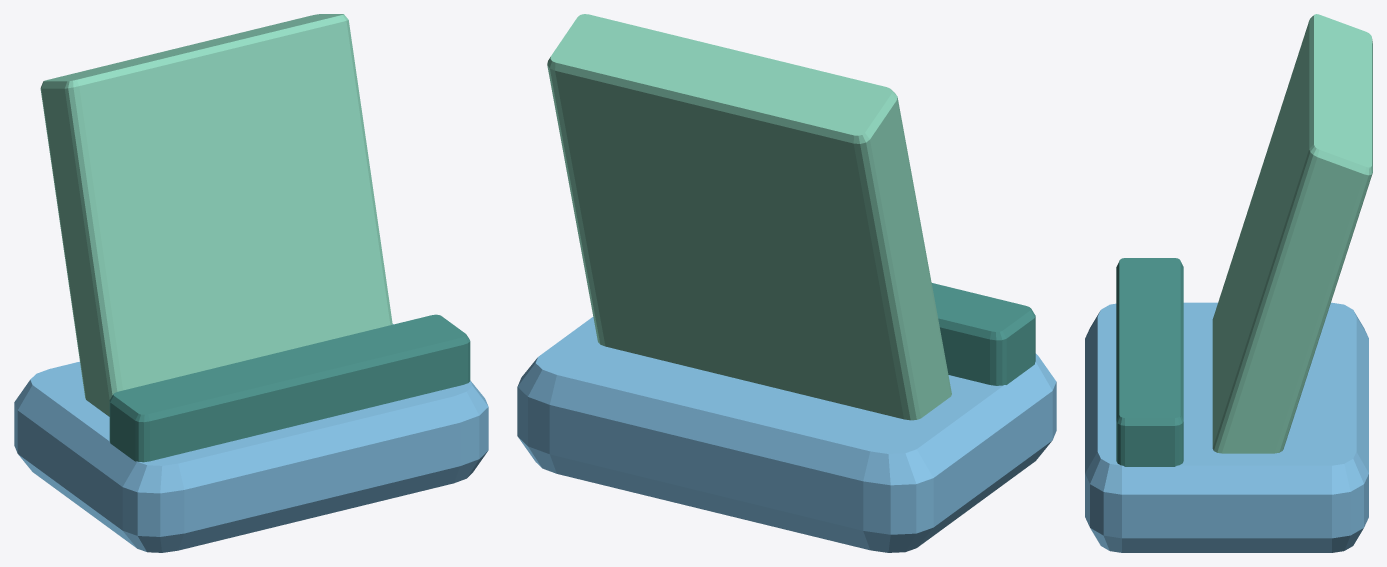
File: phone_stand.glb
3 views of the same model, side by side, from view 1: azimuth 30°, elevation 25°; view 2: azimuth 150°, elevation 25°; view 3: azimuth 270°, elevation 25° (orthographic). The views are drawn at different scales.
Visible parts, largest first — view 1: model; view 2: model; view 3: model.
Boxes of the visible parts, x1=… form: model: x1=14, y1=14, x2=488, y2=552; model: x1=517, y1=14, x2=1056, y2=552; model: x1=1085, y1=14, x2=1372, y2=552.
Size of the model in its own units: 0.35 by 0.36 by 0.24.
